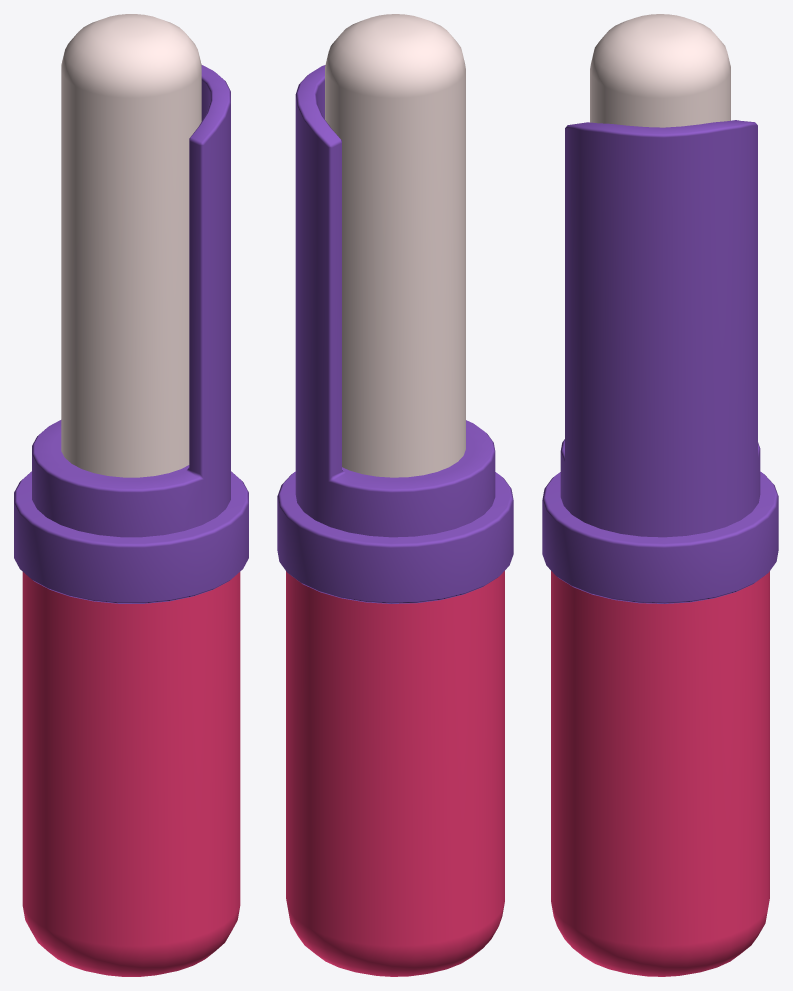
The model's file is Store_17_Curling_Iron_1.glb.
The picture shows the model from 3 angles, left to right: view 1: azimuth 30°, elevation 25°; view 2: azimuth 150°, elevation 25°; view 3: azimuth 270°, elevation 25°; orthographic projection.
Visible parts, largest first — view 1: Store_17_Curling_Iron_1; view 2: Store_17_Curling_Iron_1; view 3: Store_17_Curling_Iron_1.
Boxes of the visible parts, bbox=[...] form: Store_17_Curling_Iron_1: bbox=[14, 14, 248, 976]; Store_17_Curling_Iron_1: bbox=[277, 14, 513, 976]; Store_17_Curling_Iron_1: bbox=[542, 14, 778, 976].
Size of the model in its own units: 0.386 by 1.66 by 0.386.
Materials: 1 (1 with a texture image).
